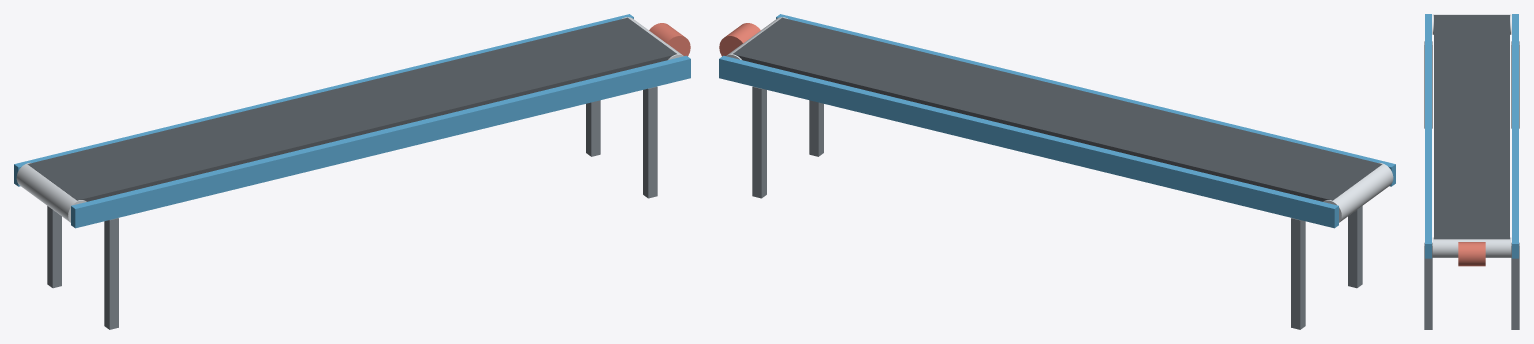
File: banda_transportadora.glb
The picture shows the model from 3 angles, left to right: view 1: azimuth 30°, elevation 25°; view 2: azimuth 150°, elevation 25°; view 3: azimuth 270°, elevation 25°; orthographic projection. The views are drawn at different scales.
Parts seen in each view (by area): view 1: banda, riel_der, riel_izq, pata_4, pata_2, rodillo_inicio, pata_1, pata_3, motor; view 2: banda, riel_izq, riel_der, pata_3, pata_1, rodillo_inicio, pata_2, pata_4, motor; view 3: banda, riel_izq, riel_der, rodillo_fin, motor, pata_3, pata_4, pata_1, pata_2, rodillo_inicio.
Part boxes in pixels (x1=…): banda: x1=27, y1=17, x2=676, y2=201; riel_der: x1=71, y1=55, x2=690, y2=228; riel_izq: x1=14, y1=14, x2=633, y2=186; pata_4: x1=643, y1=86, x2=657, y2=198; pata_2: x1=104, y1=218, x2=118, y2=329; rodillo_inicio: x1=16, y1=162, x2=86, y2=222; pata_1: x1=47, y1=206, x2=61, y2=288; pata_3: x1=586, y1=100, x2=600, y2=156; motor: x1=649, y1=23, x2=690, y2=56; banda: x1=733, y1=17, x2=1382, y2=201; riel_izq: x1=719, y1=55, x2=1338, y2=228; riel_der: x1=776, y1=14, x2=1395, y2=186; pata_3: x1=752, y1=86, x2=766, y2=198; pata_1: x1=1291, y1=218, x2=1305, y2=329; rodillo_inicio: x1=1323, y1=162, x2=1393, y2=222; pata_2: x1=1348, y1=206, x2=1362, y2=288; pata_4: x1=809, y1=100, x2=823, y2=156; motor: x1=719, y1=23, x2=760, y2=56; banda: x1=1434, y1=15, x2=1509, y2=239; riel_izq: x1=1512, y1=14, x2=1518, y2=258; riel_der: x1=1425, y1=14, x2=1431, y2=258; rodillo_fin: x1=1432, y1=237, x2=1511, y2=257; motor: x1=1458, y1=242, x2=1485, y2=266; pata_3: x1=1511, y1=242, x2=1519, y2=329; pata_4: x1=1424, y1=242, x2=1432, y2=329; pata_1: x1=1511, y1=41, x2=1519, y2=128; pata_2: x1=1424, y1=41, x2=1432, y2=128; rodillo_inicio: x1=1432, y1=14, x2=1511, y2=34.
Bounding box in the file's own units: 4.16 × 0.83 × 0.7.
